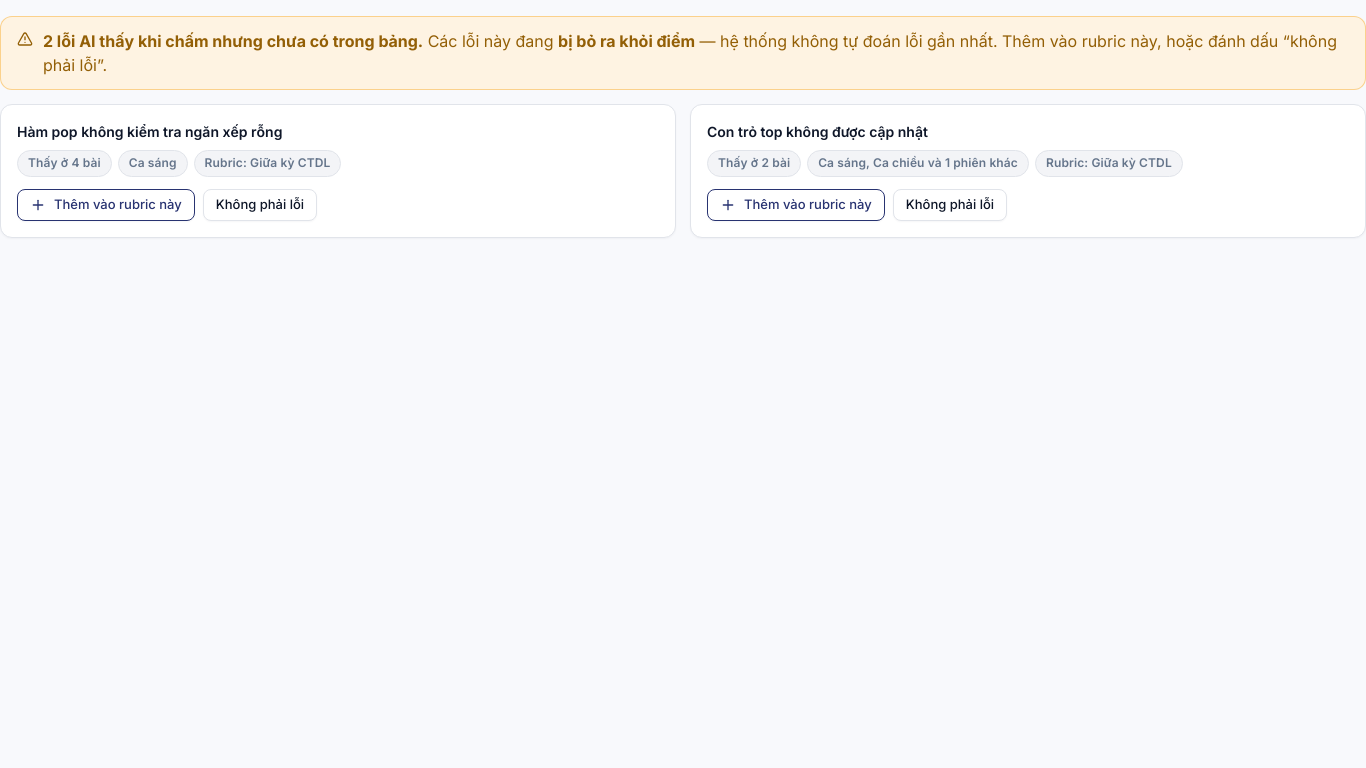
ProposalsTab (T-RBE-UI-7) › lỗi của máy chủ khi đánh dấu hiện nguyên văn trong hộp thoại
Click the button "Không phải lỗi" below "Hàm pop không kiểm tra ngăn xếp rỗng" at [260, 205], box [203,189,317,221]
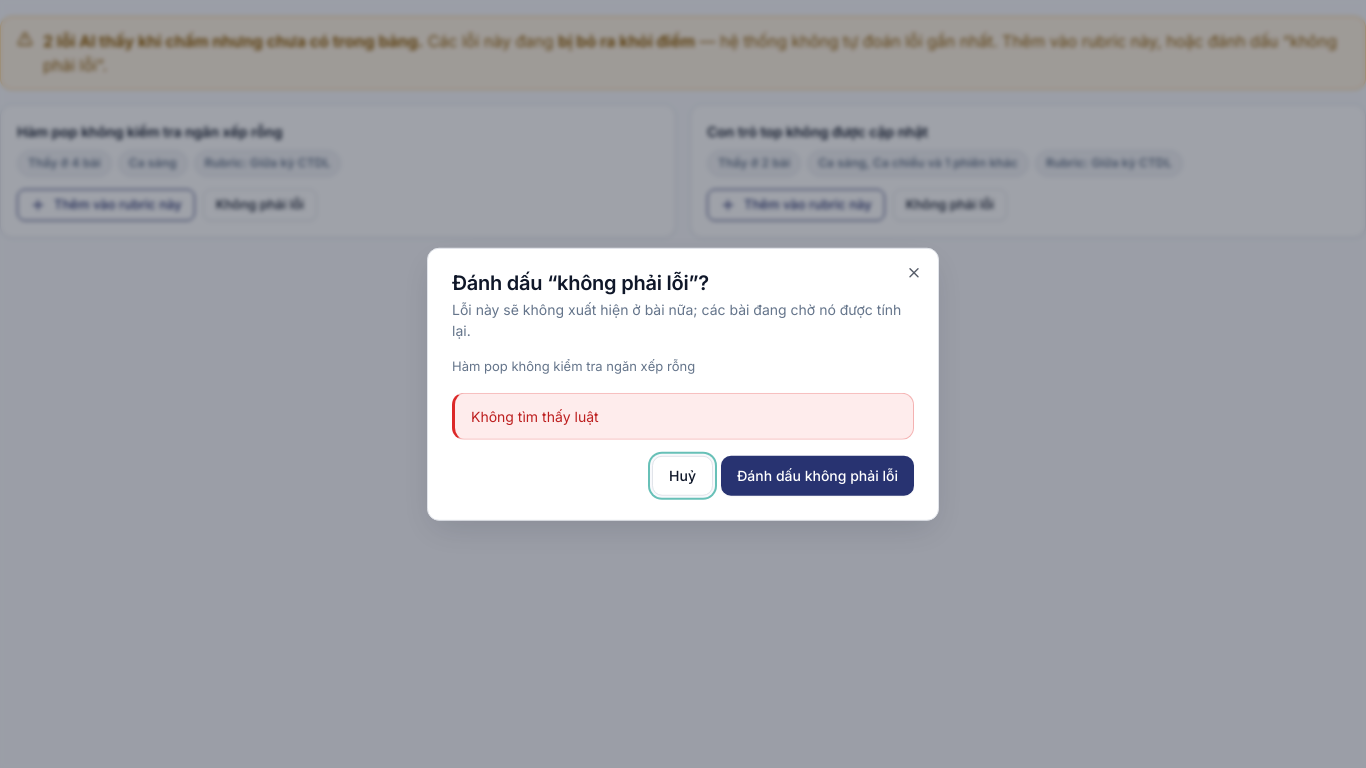
Expected: the text "Không tìm thấy luật" is shown, [471,407,599,424]
